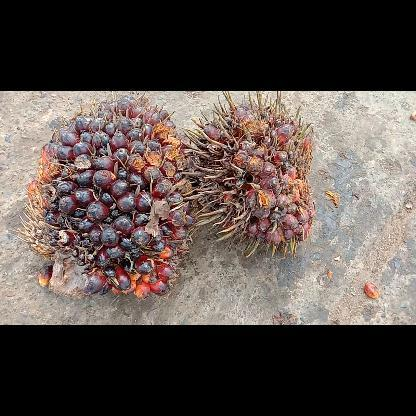Kurang masak: (13, 90, 198, 298)
TBS masak: (180, 91, 314, 256)
